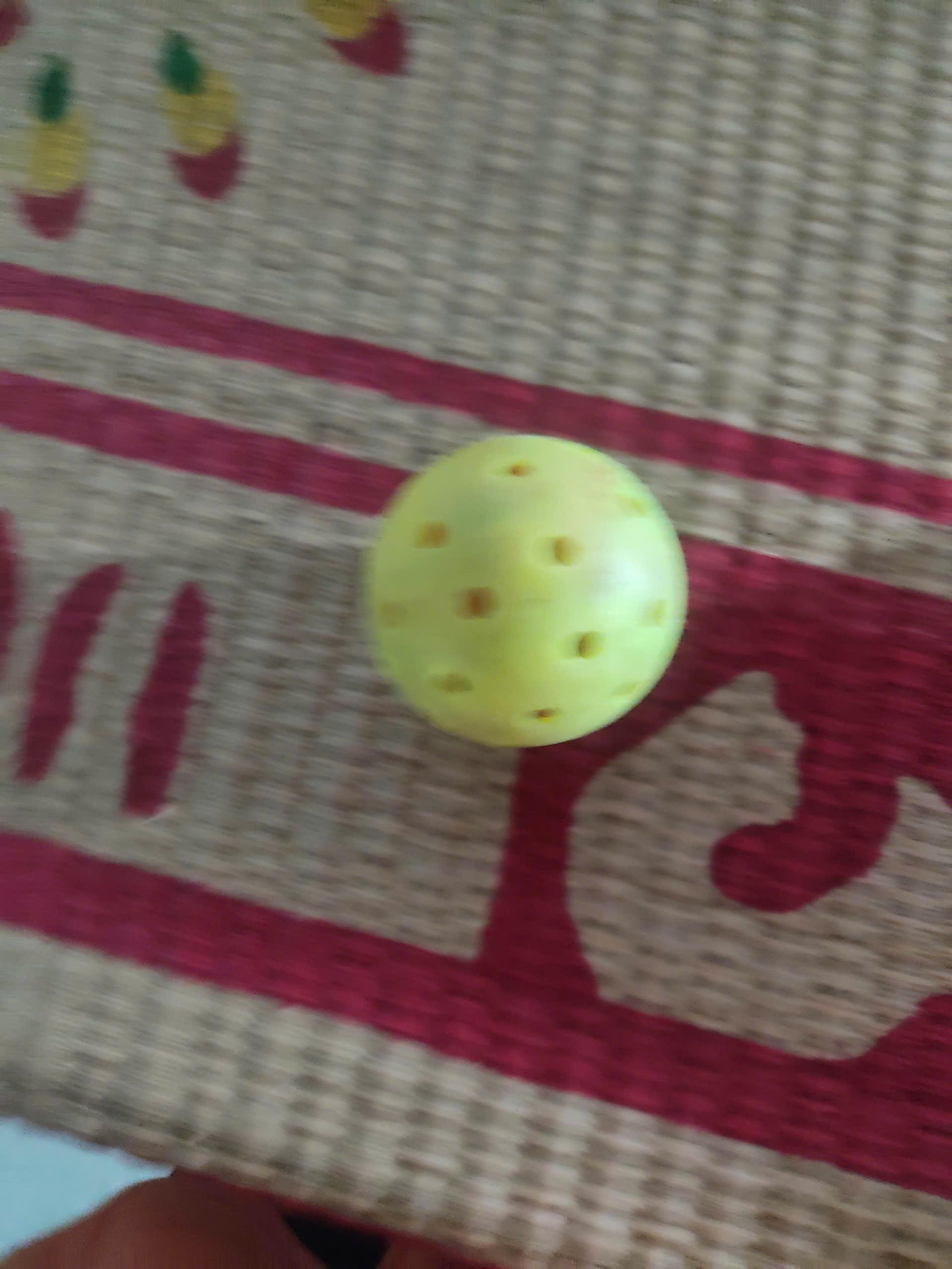ball: (352, 410, 696, 765)
